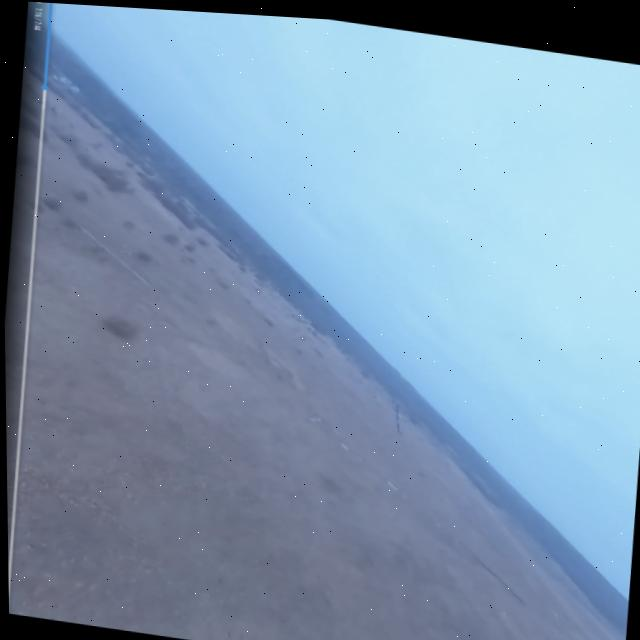planedrone: (381, 392, 410, 444)
